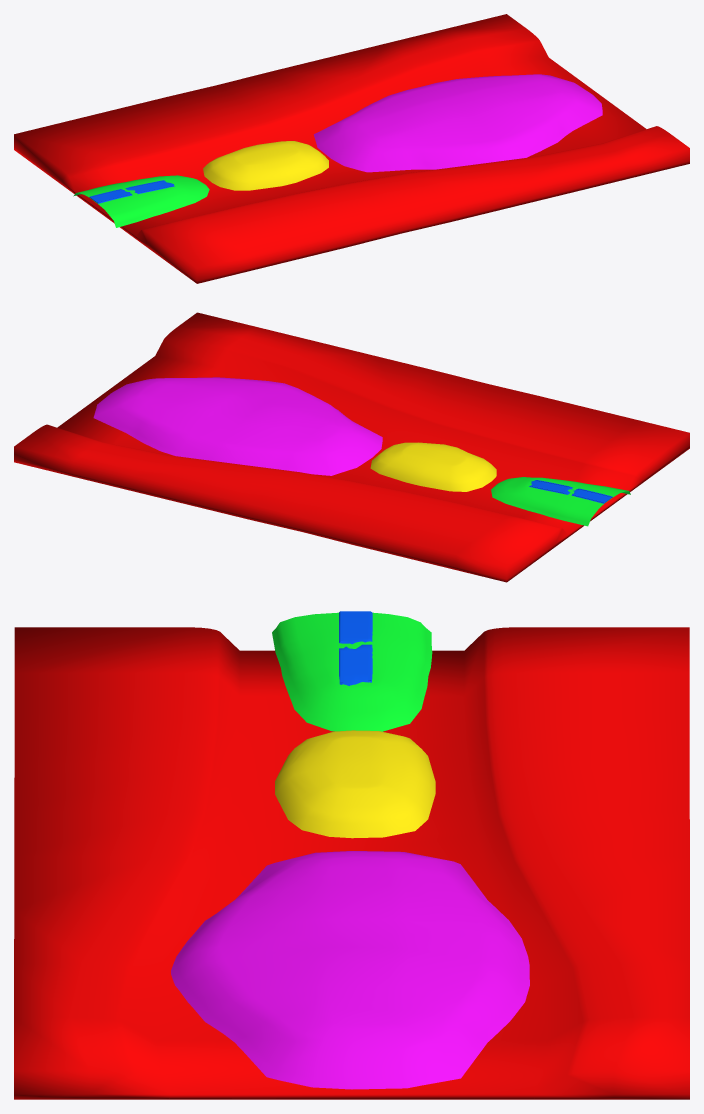
The model's file is New_LeveL.fbx.
3 renders of one model, top to bottom at view 1: azimuth 30°, elevation 25°; view 2: azimuth 150°, elevation 25°; view 3: azimuth 270°, elevation 25°, orthographic. The views are drawn at different scales.
Parts seen in each view (by area): view 1: Box14470, Box14473, Box14475, Box14472, Box14477; view 2: Box14470, Box14473, Box14475, Box14472, Box14477; view 3: Box14470, Box14473, Box14475, Box14472, Box14477.
Part boxes in pixels (x1,y1,x2,y2): Box14470: (14, 14, 689, 283); Box14473: (313, 74, 602, 172); Box14475: (203, 141, 328, 190); Box14472: (73, 175, 209, 227); Box14477: (89, 180, 174, 203); Box14470: (14, 312, 689, 582); Box14473: (93, 377, 382, 475); Box14475: (370, 442, 496, 491); Box14472: (491, 477, 630, 526); Box14477: (529, 480, 612, 503); Box14470: (14, 627, 689, 1099); Box14473: (171, 851, 529, 1089); Box14475: (275, 730, 435, 838); Box14472: (272, 612, 432, 731); Box14477: (339, 611, 372, 685).
Bounding box in the file's own units: 835 × 37.89 × 525.
